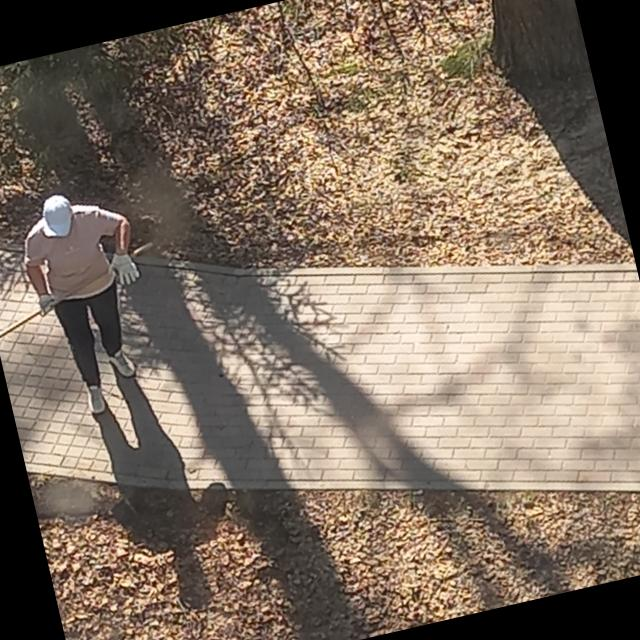person: (12, 180, 170, 421)
